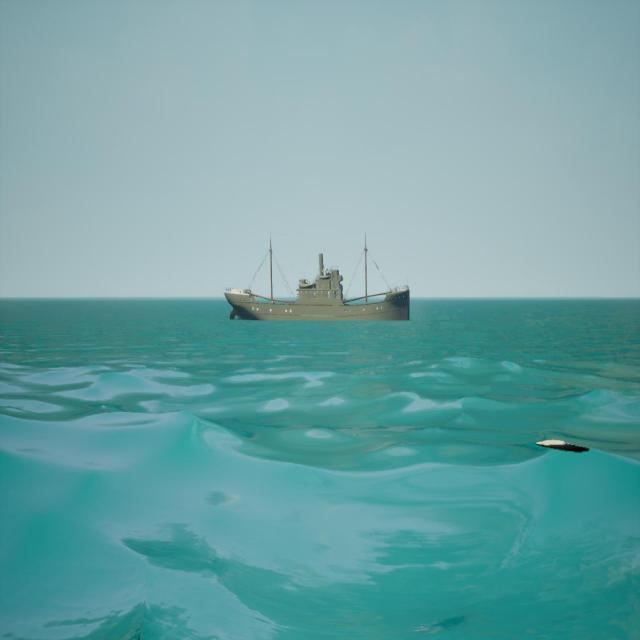fishing ship: (227, 239, 413, 323)
